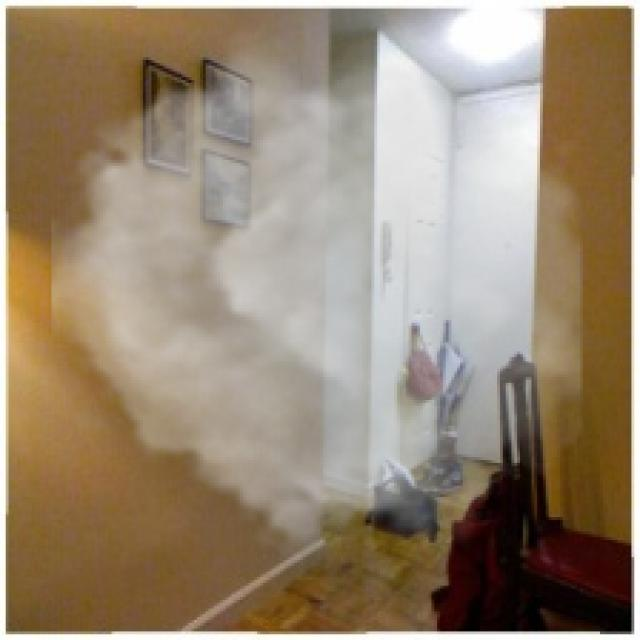smoke: (51, 26, 583, 566)
